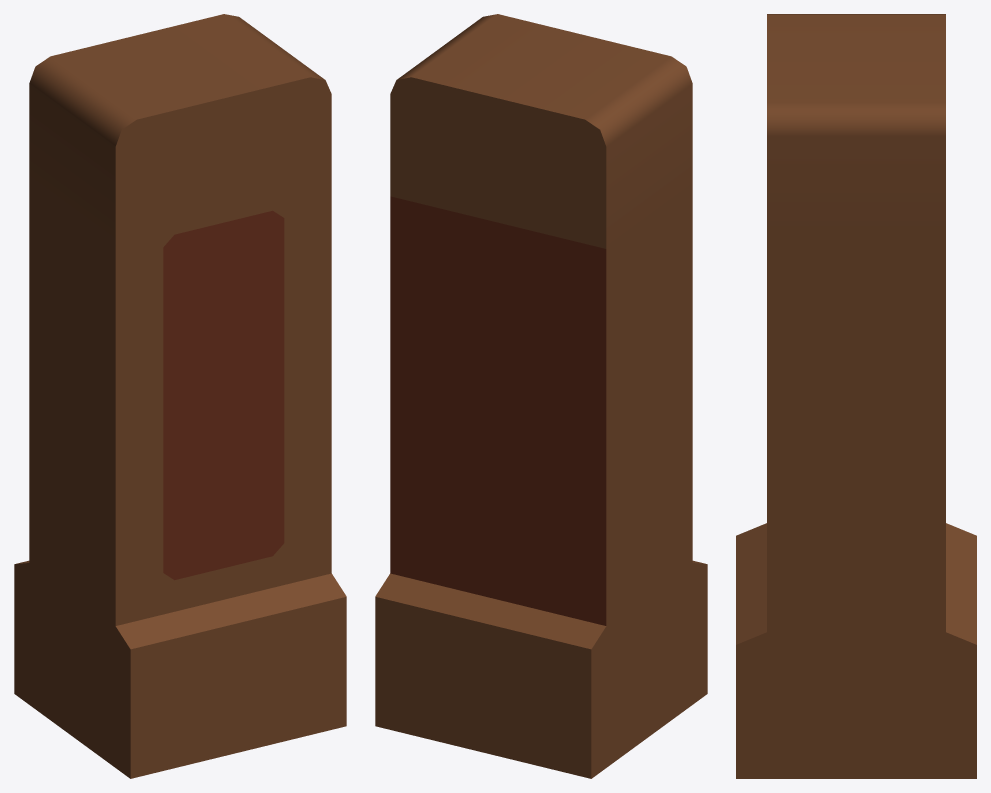
Rendered from BrickGateEdge_Mesh.fbx.
3 renders of one model, left to right at view 1: azimuth 30°, elevation 25°; view 2: azimuth 150°, elevation 25°; view 3: azimuth 270°, elevation 25°, orthographic. The views are drawn at different scales.
Parts seen in each view (by area): view 1: BrickGateEdge_Mesh; view 2: BrickGateEdge_Mesh; view 3: BrickGateEdge_Mesh.
Boxes of the visible parts, <box> form: BrickGateEdge_Mesh: <box>14,14,346,778</box>; BrickGateEdge_Mesh: <box>375,14,707,778</box>; BrickGateEdge_Mesh: <box>736,14,976,778</box>.
Bounding box in the file's own units: 0.5 × 1.42 × 0.4661.
